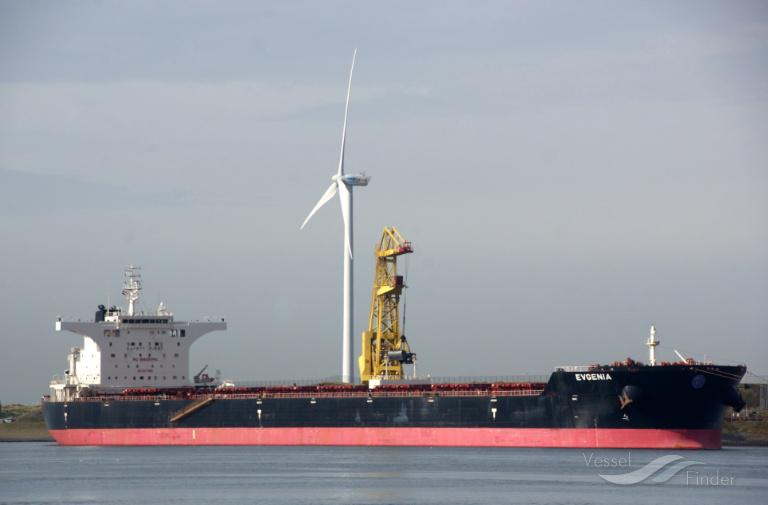OCR: (572, 367, 618, 387)
